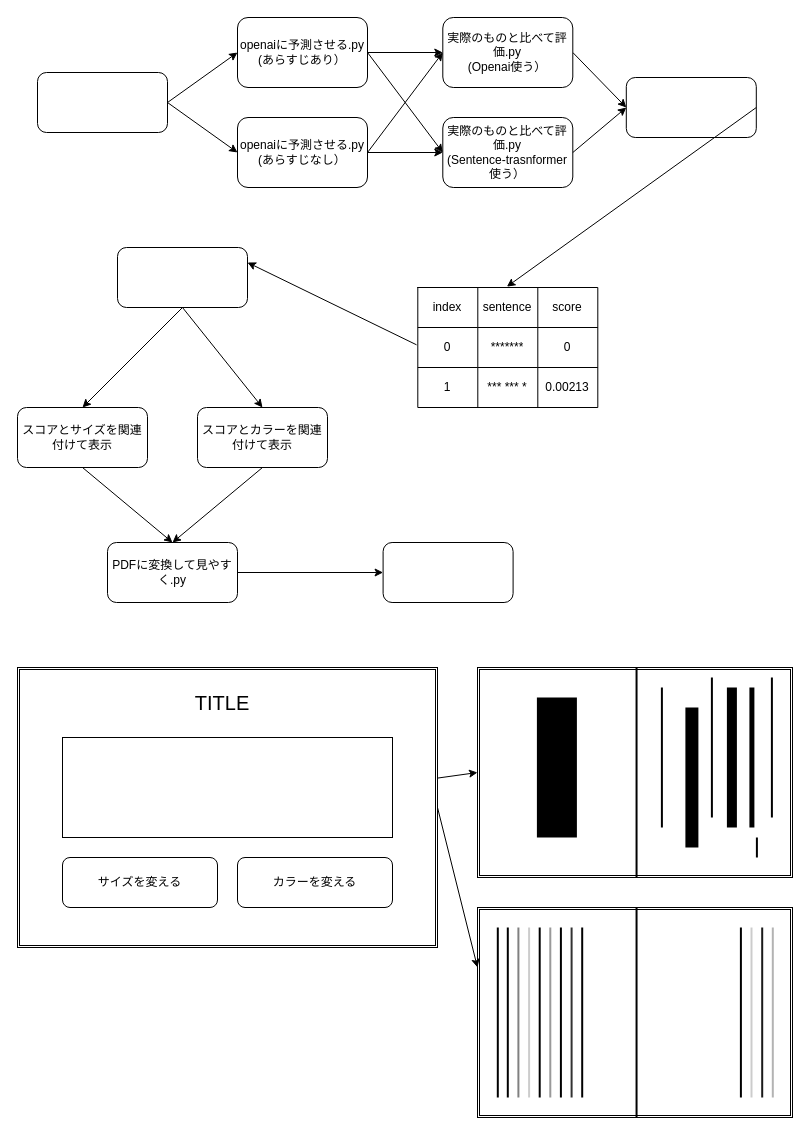
Image size: 810x1136. Some labels were removed from this diagram. The shapes that lost their labels are listed below. From the top down, each one's centre as x and y in pixels, then its label:
At point 102,102: "文章を読み込む".
At point 690,107: "数値について厳密性を考えるby人".
At point 182,277: "スコアをもとにうまく分布するような閾値を計算.py".
At point 447,572: ".txt受け取って.pdfを返すインターフェース.ts".
At point 227,787: "文字を入力するか、ファイルをアップロードしてください".
